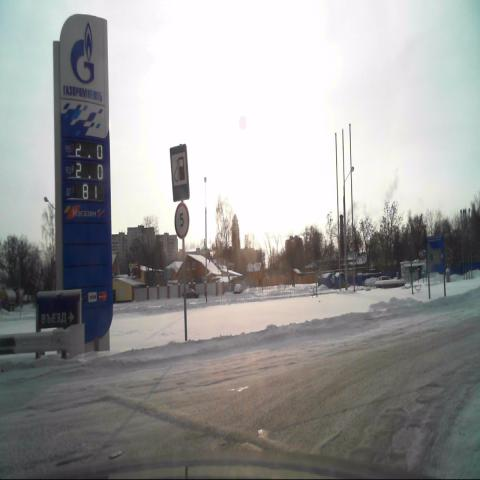7_3: (170, 144, 190, 202)
